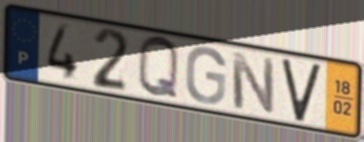2: (91, 26, 131, 94)
4: (45, 22, 81, 83)
G: (183, 45, 228, 106)
N: (228, 49, 277, 117)
Q: (136, 33, 182, 102)
V: (279, 57, 324, 125)
